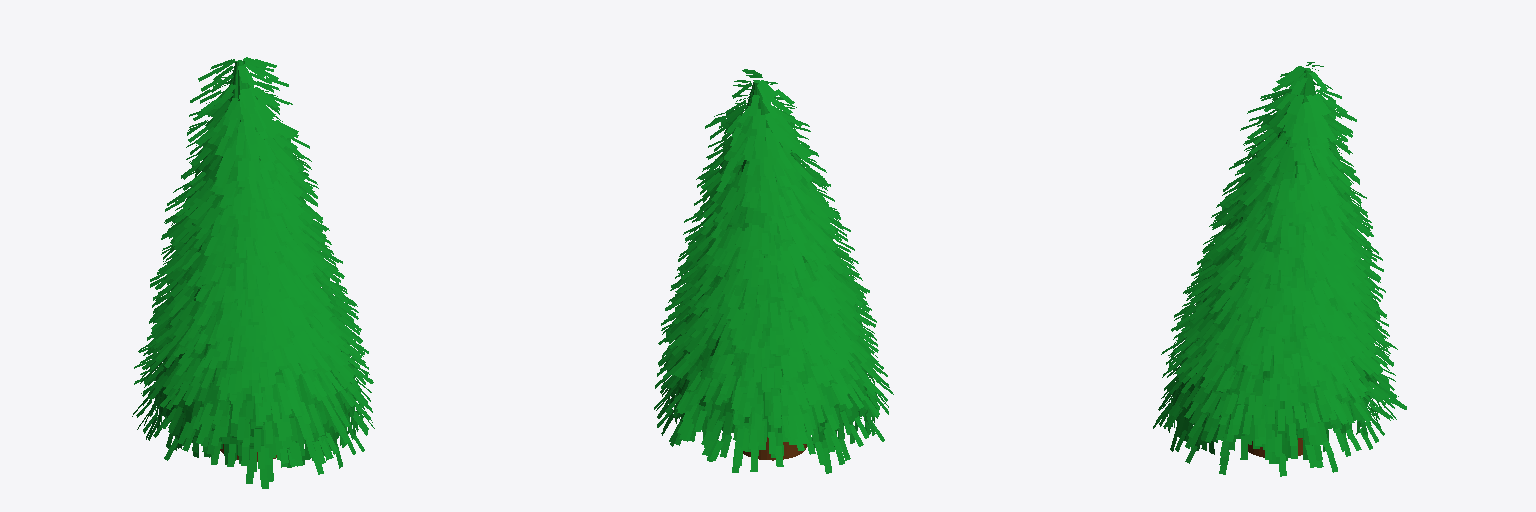
The model's file is x-mas-tree.obj.
3 views of the same model, side by side, from view 1: azimuth 30°, elevation 25°; view 2: azimuth 150°, elevation 25°; view 3: azimuth 270°, elevation 25° (orthographic).
Visible parts, largest first — view 1: Cylinder.001; view 2: Cylinder.001; view 3: Cylinder.001.
Boxes of the visible parts, x1,y1,x2,y2 form: Cylinder.001: [132, 57, 374, 488]; Cylinder.001: [654, 69, 893, 473]; Cylinder.001: [1153, 62, 1406, 476].
Bounding box in the file's own units: 2.03 × 3.54 × 2.16.